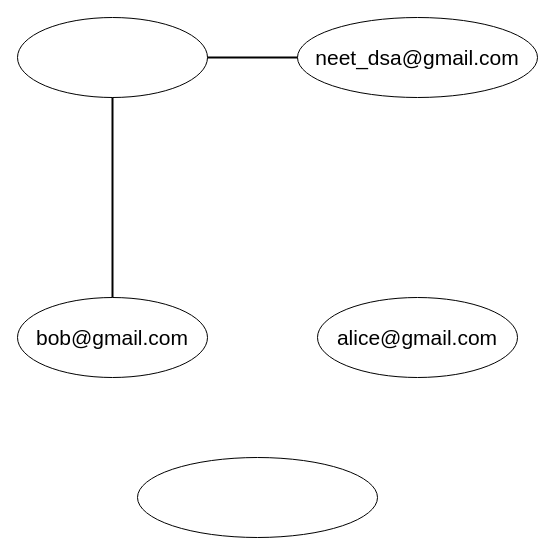
This 555x555 diagram has some shape labels left out. Here are the shapes that lost their labels. From the top down, the box of each, then its label:
(16, 16, 208, 98): neet@gmail.com
(136, 456, 378, 538): neetcode@gmail.com
